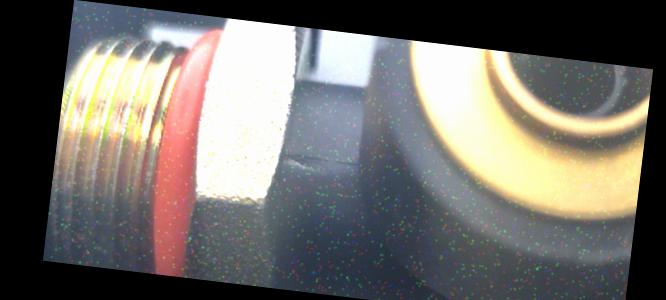joint line: (287, 150, 357, 166)
white mark: (281, 158, 320, 171)
